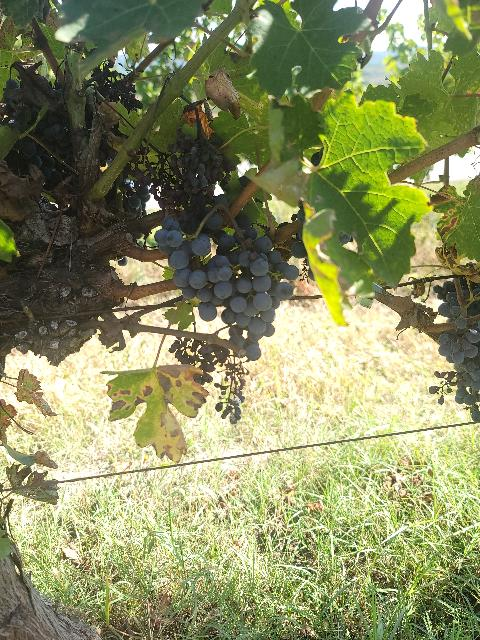grapes: (221, 235, 299, 361), (155, 216, 232, 321)
